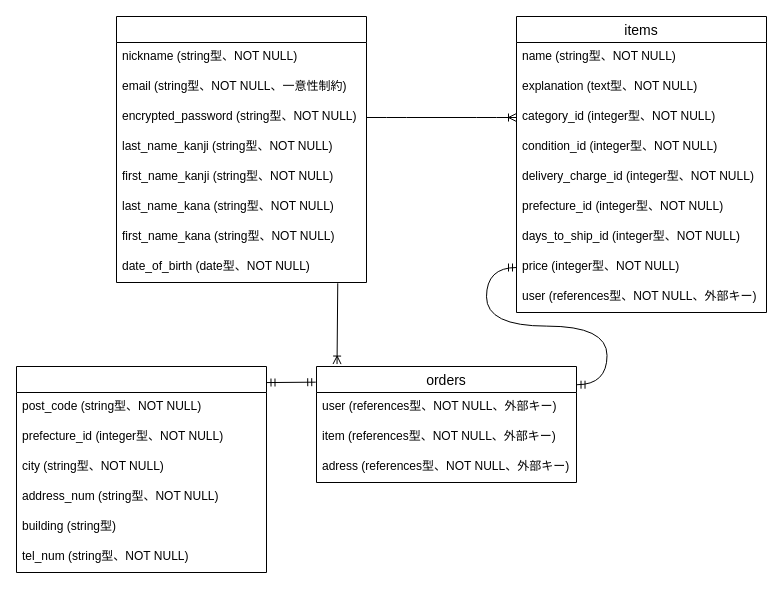
Image size: 783x589. Some labels were removed from this diagram. The box of each missing label's shape, as (x1, y1, x2, y2) in pixels:
addresses: (16, 366, 266, 572)
users: (116, 16, 366, 282)
